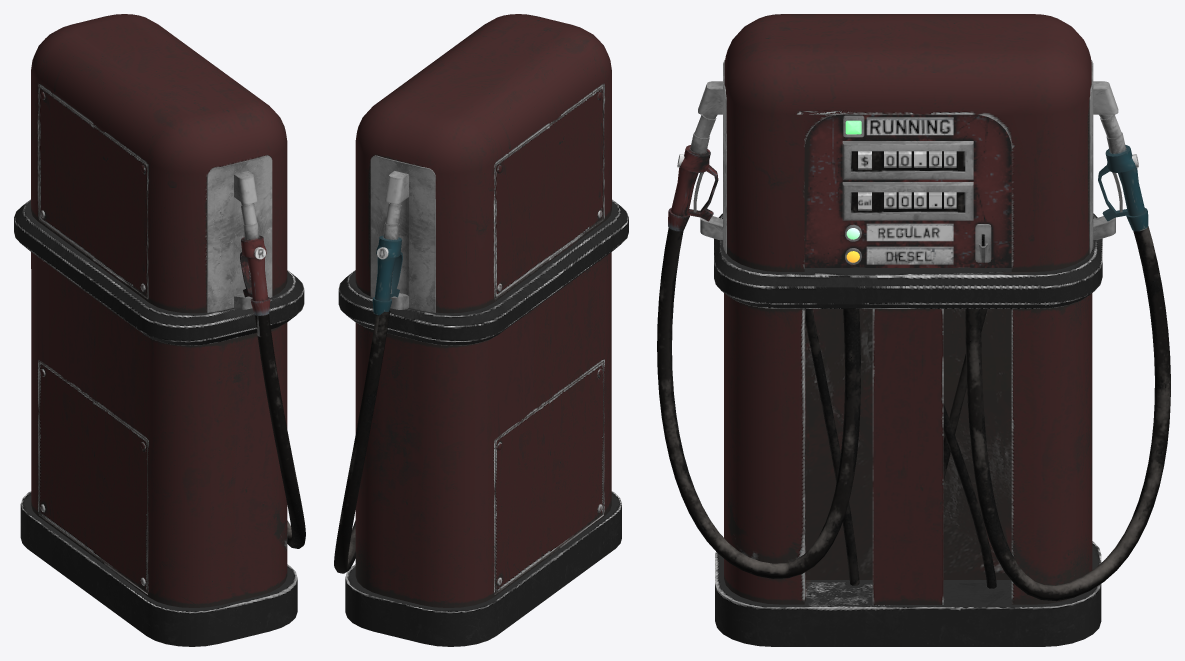
The model's file is gas_pump.glb.
The picture shows the model from 3 angles, left to right: view 1: azimuth 30°, elevation 25°; view 2: azimuth 150°, elevation 25°; view 3: azimuth 270°, elevation 25°; orthographic projection. The views are drawn at different scales.
Visible parts, largest first — view 1: GasPump; view 2: GasPump; view 3: GasPump.
Part boxes in pixels (<box>): GasPump: <box>14,14,305,646</box>; GasPump: <box>334,14,628,646</box>; GasPump: <box>657,14,1170,646</box>.
Size of the model in its own units: 0.6253 by 1.9 by 1.54.
4 materials, 2 textured.
